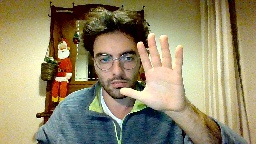Mano_aperta: (118, 31, 187, 115)
